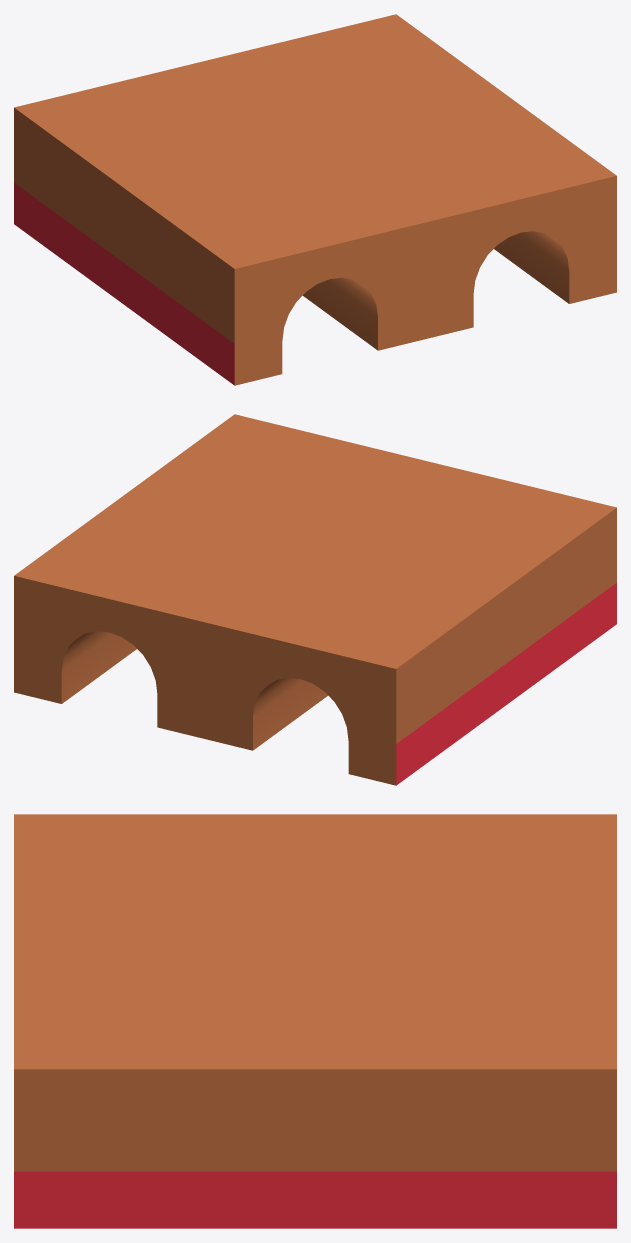
The model's file is tunnelDouble.FBX.
3 renders of one model, top to bottom at view 1: azimuth 30°, elevation 25°; view 2: azimuth 150°, elevation 25°; view 3: azimuth 270°, elevation 25°, orthographic. The views are drawn at different scales.
Visible parts, largest first — view 1: tunnelDouble; view 2: tunnelDouble; view 3: tunnelDouble.
Boxes of the visible parts, <box> form: tunnelDouble: <box>14,14,616,385</box>; tunnelDouble: <box>14,414,616,785</box>; tunnelDouble: <box>14,814,616,1228</box>.
Bounding box in the file's own units: 79.99 × 23.33 × 79.99.
